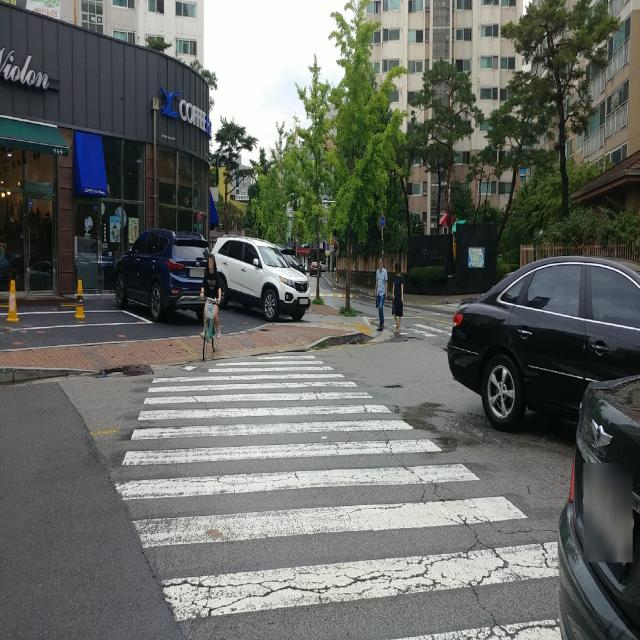횡단보도: (115, 352, 562, 640)
